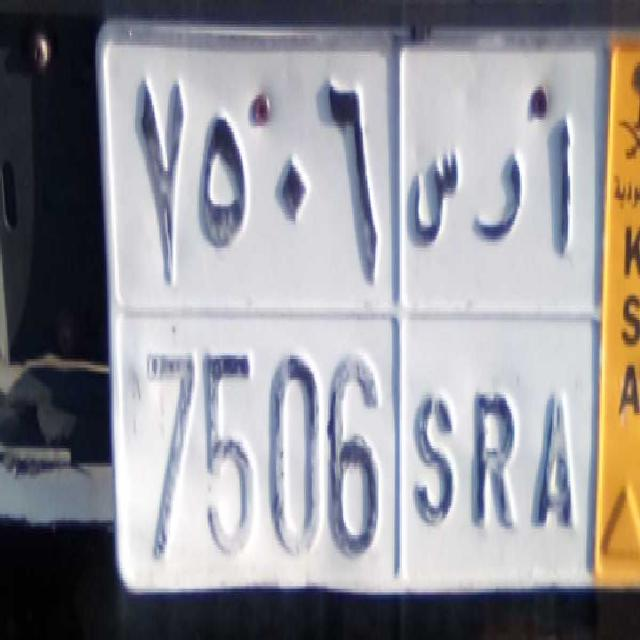license_plate: (118, 310, 598, 584)
